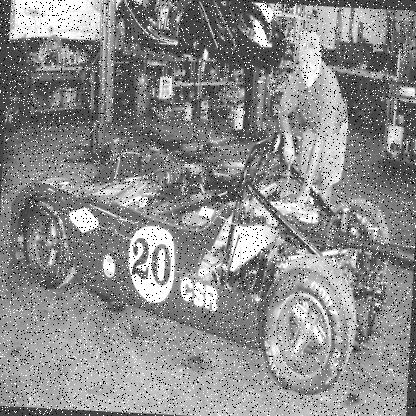Car: (2, 117, 415, 398)
